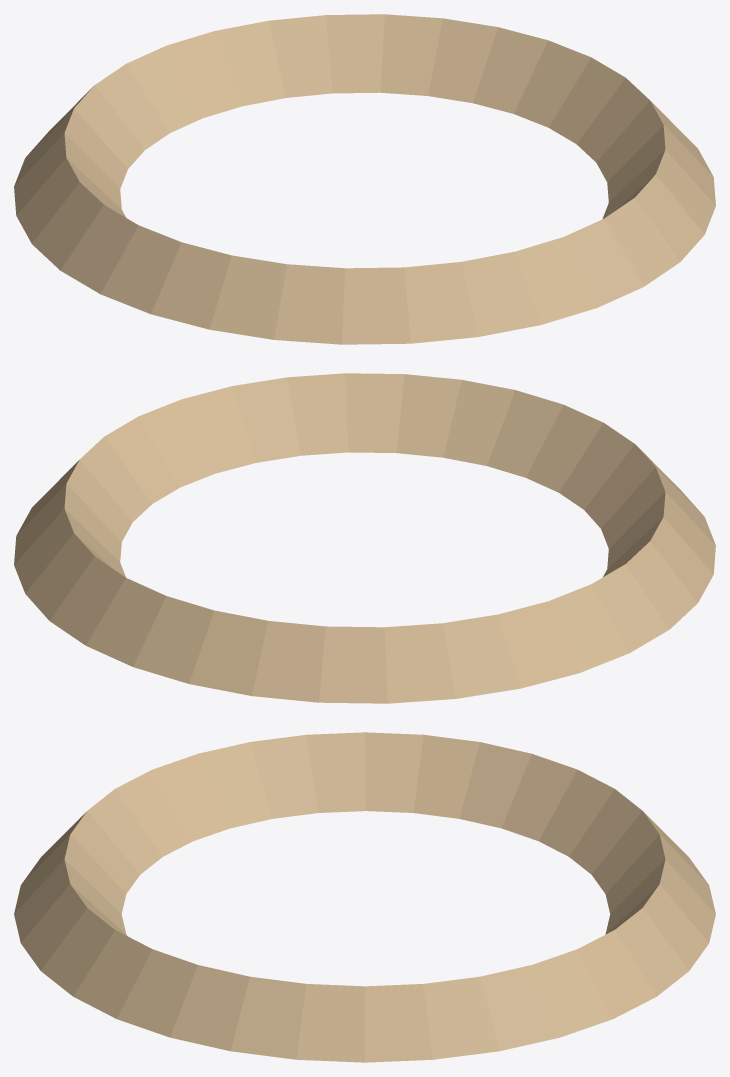
3 renders of one model, top to bottom at view 1: azimuth 30°, elevation 25°; view 2: azimuth 150°, elevation 25°; view 3: azimuth 270°, elevation 25°, orthographic.
Parts seen in each view (by area): view 1: Nen bao quanh; view 2: Nen bao quanh; view 3: Nen bao quanh.
Part boxes in pixels (bbox=[...]): Nen bao quanh: bbox=[14, 14, 715, 344]; Nen bao quanh: bbox=[14, 373, 715, 703]; Nen bao quanh: bbox=[14, 732, 715, 1062].
Size of the model in its own units: 86.21 by 7.45 by 86.21.
1 material, 1 textured.
